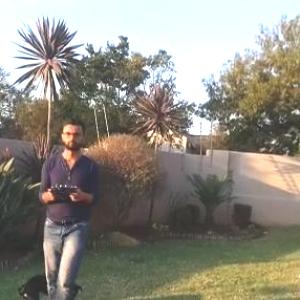follow: (32, 116, 103, 299)
